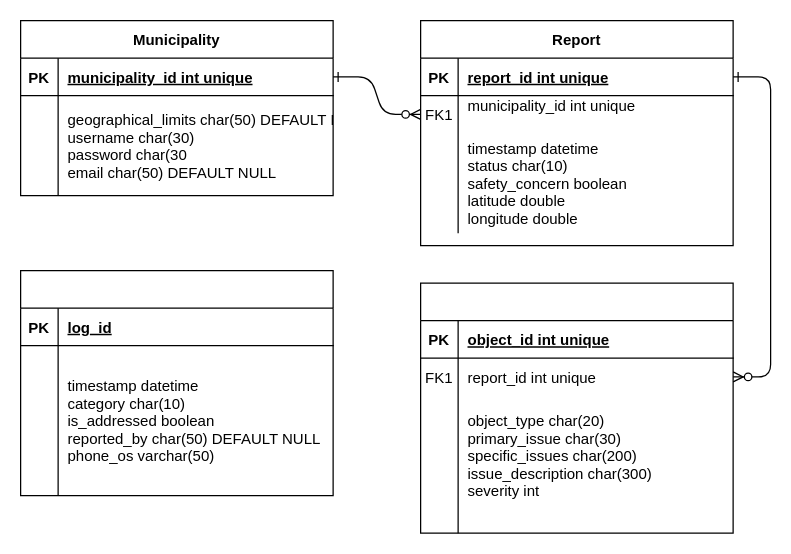
This 791x554 diagram has some shape labels left out. Here are the shapes that lost their labels. From the top down, the box of each, then its label:
(19, 269, 333, 496): Application_Feedback_Log
(419, 282, 733, 533): Infrastructure_Object
